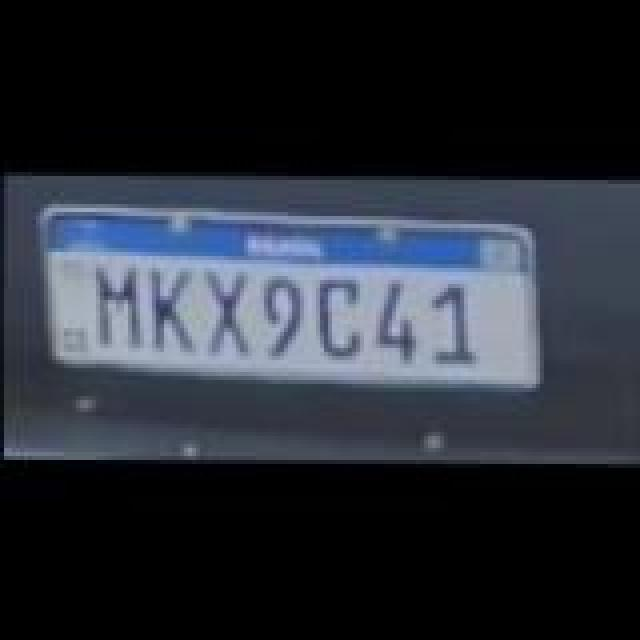1: (428, 280, 480, 360)
4: (374, 280, 422, 360)
9: (258, 274, 306, 354)
C: (312, 274, 364, 354)
K: (146, 266, 202, 350)
M: (92, 262, 144, 346)
X: (202, 266, 258, 350)
